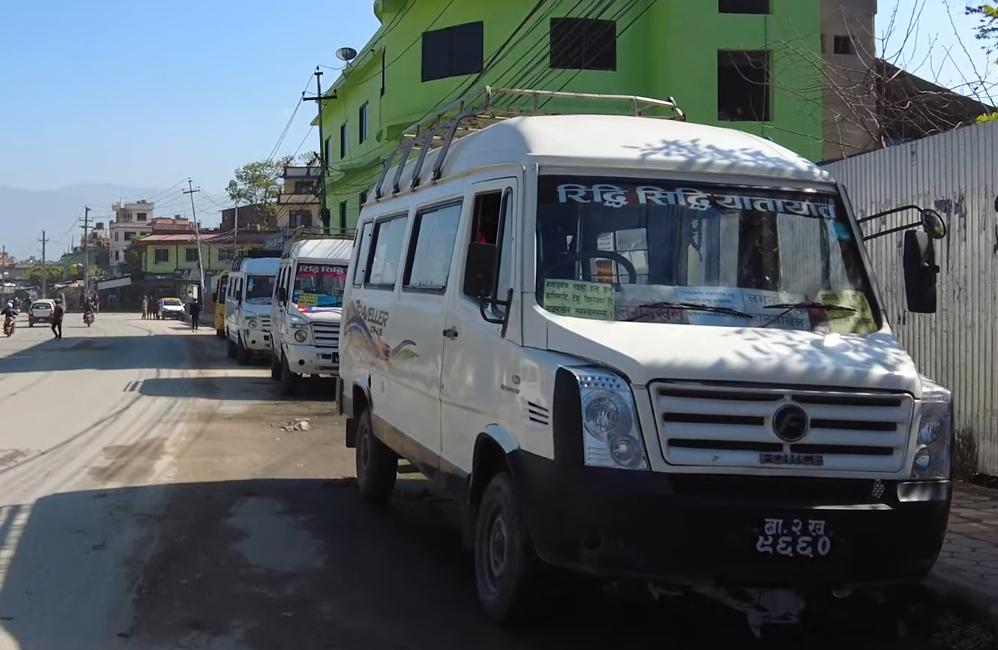micro_bus: (328, 71, 957, 619), (274, 217, 361, 392), (226, 245, 288, 364)
taxi: (156, 294, 188, 321)
